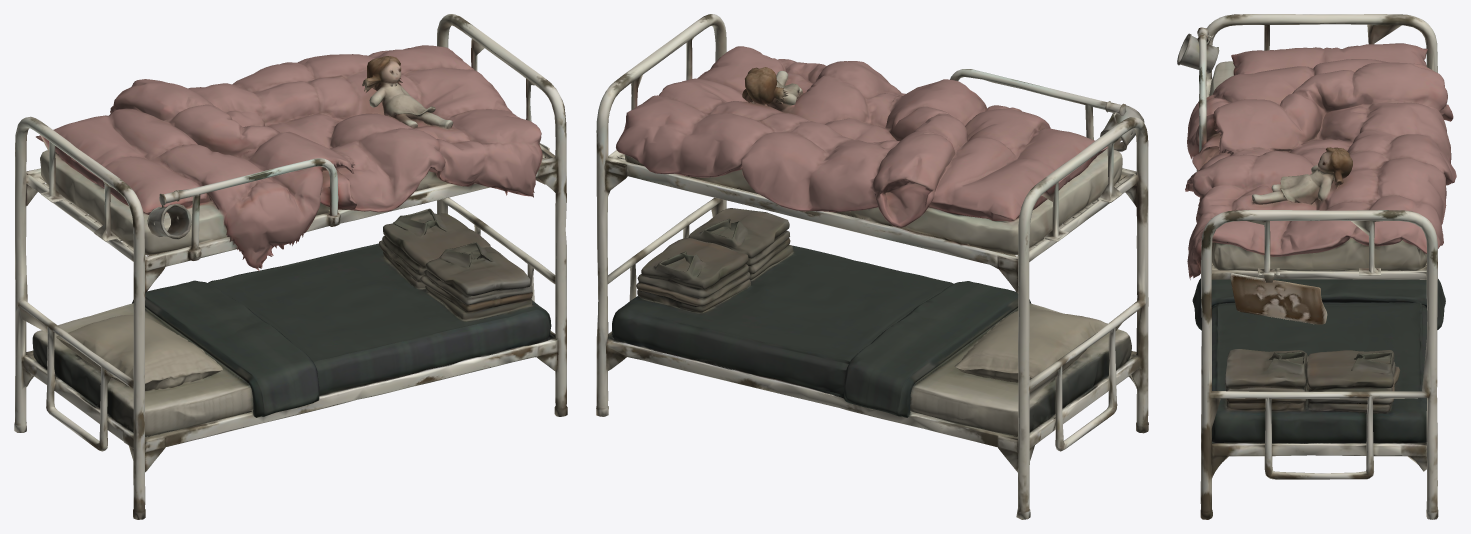
The model's file is silo81_bunk_b.glb.
3 views of the same model, side by side, from view 1: azimuth 30°, elevation 25°; view 2: azimuth 150°, elevation 25°; view 3: azimuth 270°, elevation 25° (orthographic). The views are drawn at different scales.
Visible parts, largest first — view 1: tripo_node_aae5ab0c-7138-47a3-aa1a-67c48a09234e; view 2: tripo_node_aae5ab0c-7138-47a3-aa1a-67c48a09234e; view 3: tripo_node_aae5ab0c-7138-47a3-aa1a-67c48a09234e.
Part boxes in pixels (box(x1,y1,x2,y2)): tripo_node_aae5ab0c-7138-47a3-aa1a-67c48a09234e: box(14, 14, 567, 519); tripo_node_aae5ab0c-7138-47a3-aa1a-67c48a09234e: box(596, 14, 1148, 519); tripo_node_aae5ab0c-7138-47a3-aa1a-67c48a09234e: box(1177, 14, 1456, 519).
Bounding box in the file's own units: 0.9776 × 0.7179 × 0.5713.
Materials: 1 (1 with a texture image).
